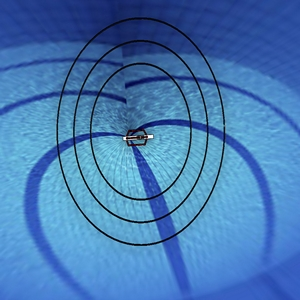circle: (44, 6, 234, 269)
submarine: (114, 119, 156, 153)
